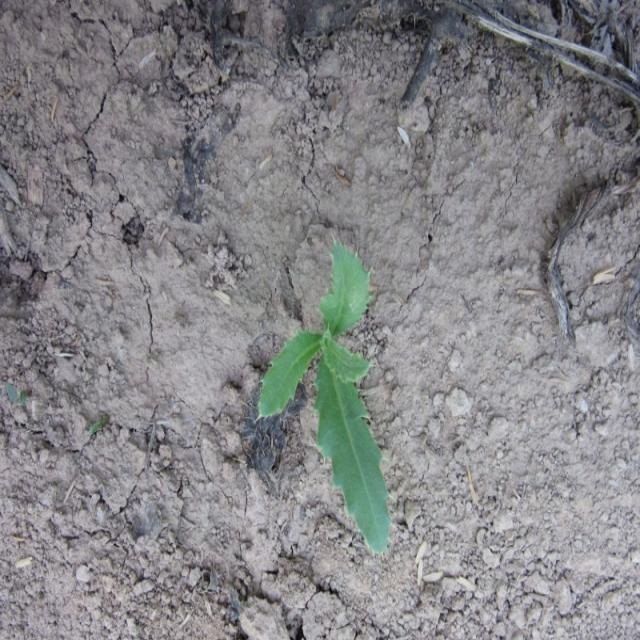field_thistle: (240, 230, 402, 570)
